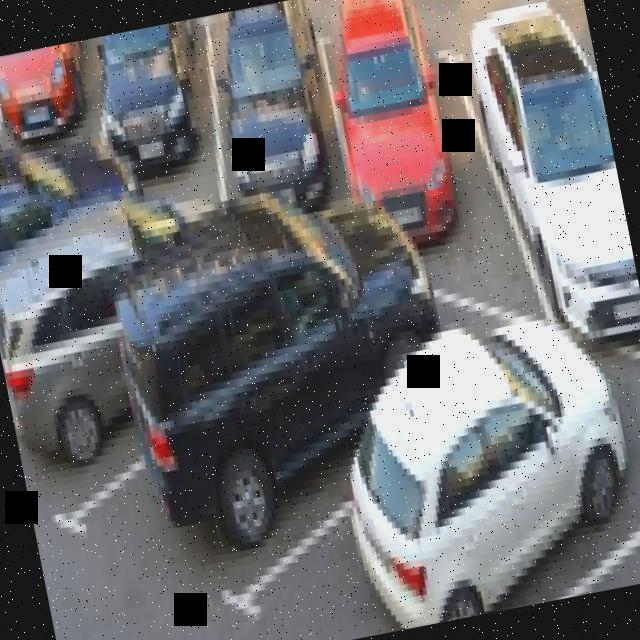car: (93, 241, 470, 615), (277, 289, 640, 640), (0, 221, 228, 516), (465, 0, 640, 330), (319, 0, 515, 291), (210, 0, 358, 264), (0, 130, 146, 380), (85, 18, 232, 221), (0, 40, 102, 158)
